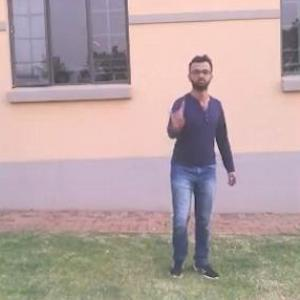takeoff-hand: (161, 100, 190, 134)
